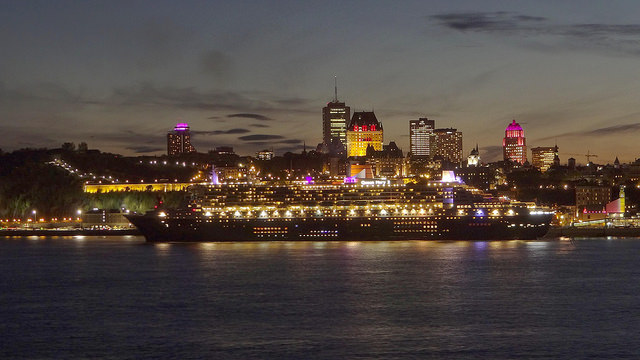cruise_ship: (135, 159, 554, 246)
